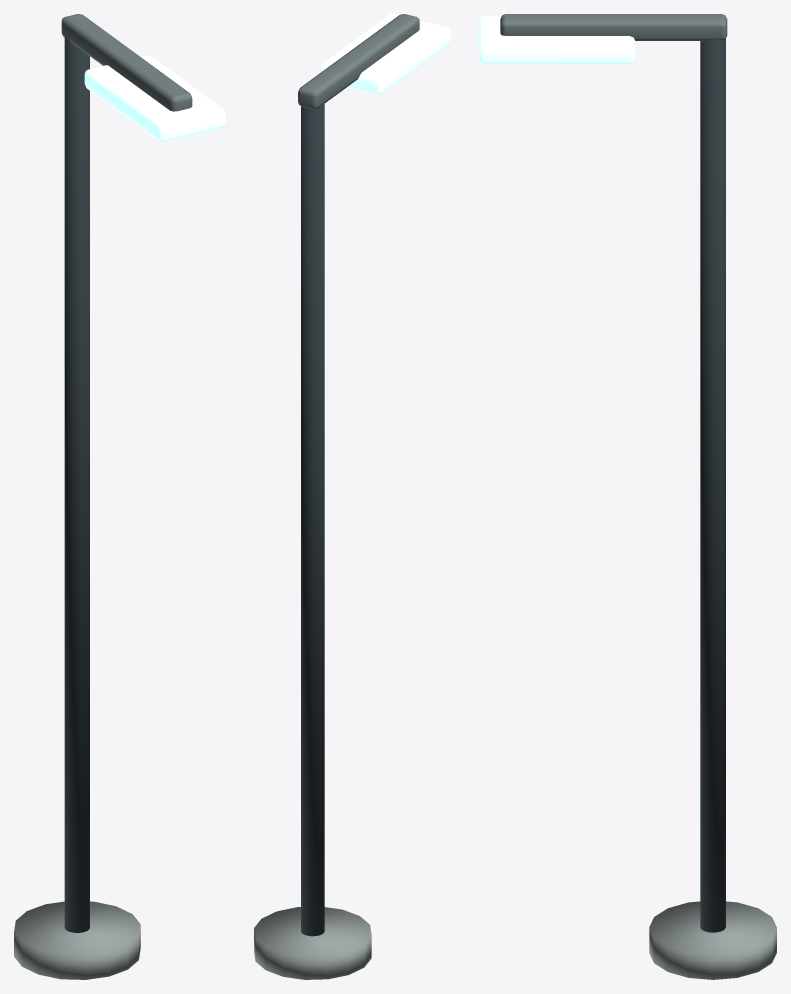
Rendered from streetlamp.glb.
The picture shows the model from 3 angles, left to right: view 1: azimuth 30°, elevation 25°; view 2: azimuth 150°, elevation 25°; view 3: azimuth 270°, elevation 25°; orthographic projection. The views are drawn at different scales.
Visible parts, largest first — view 1: streetlamp; view 2: streetlamp; view 3: streetlamp.
Boxes of the visible parts, left/top/right/bottom form: streetlamp: left=14, top=14, right=225, bottom=979; streetlamp: left=254, top=14, right=450, bottom=979; streetlamp: left=479, top=14, right=776, bottom=979.
Bounding box in the file's own units: 0.9 × 7.28 × 2.1.
